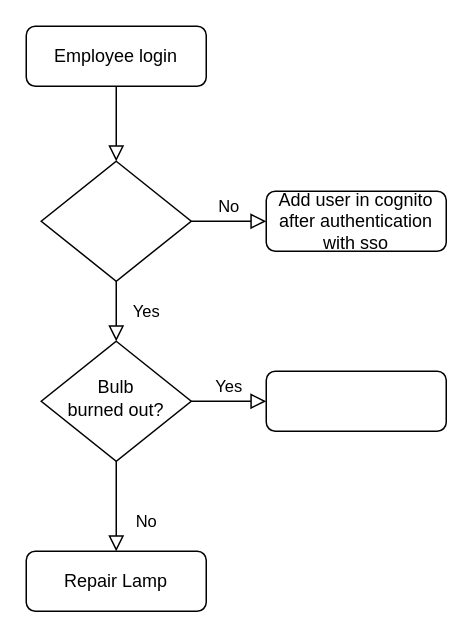
Image size: 473x638. Some labels were removed from this diagram. Each missing label, with the box of its shape:
Replace Bulb: (265, 370, 446, 431)
Subsequent login: (40, 160, 191, 281)
